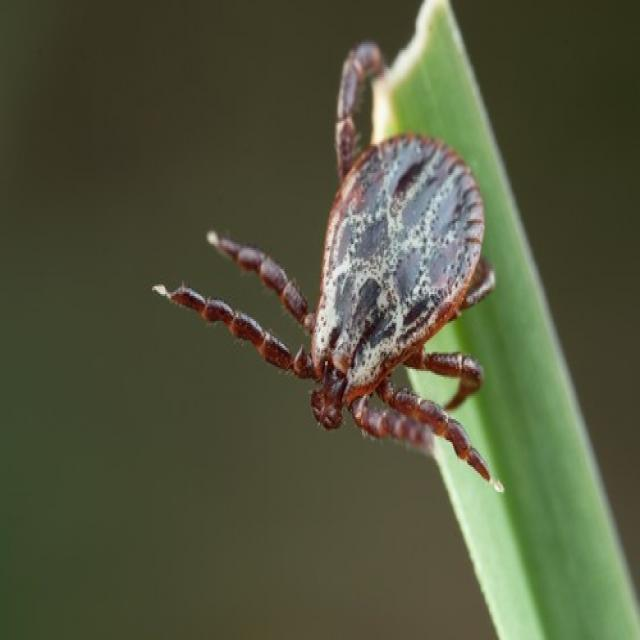Dermacentor Reticulatus-M: (155, 42, 495, 480)
